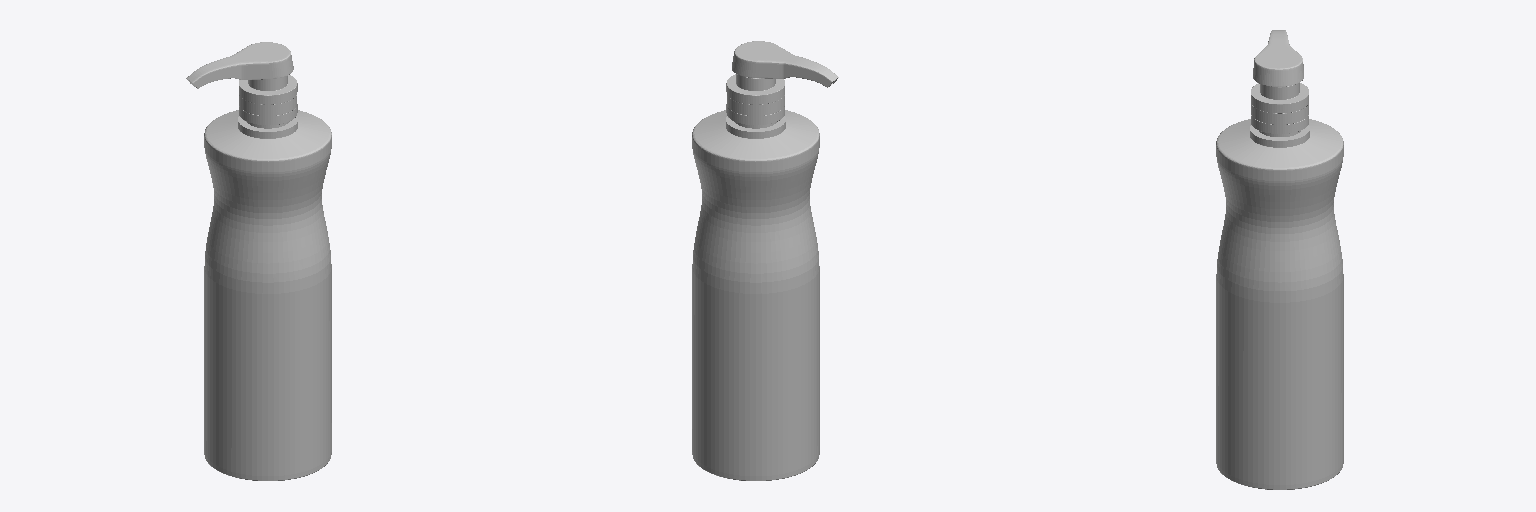
File: Blondes Conditioner Liter Label lb.obj
3 renders of one model, left to right at view 1: azimuth 30°, elevation 25°; view 2: azimuth 150°, elevation 25°; view 3: azimuth 270°, elevation 25°, orthographic.
Visible parts, largest first — view 1: Cylinder007, Cylinder008, Object008, Object009; view 2: Cylinder007, Cylinder008, Object008, Object009; view 3: Cylinder007, Cylinder008, Object008, Object009.
Boxes of the visible parts, x1,y1,x2,y2 form: Cylinder007: [204, 110, 331, 480]; Cylinder008: [186, 42, 293, 88]; Object008: [239, 75, 297, 124]; Object009: [239, 95, 296, 115]; Cylinder007: [692, 110, 819, 480]; Cylinder008: [732, 41, 838, 87]; Object008: [726, 74, 784, 124]; Object009: [727, 95, 784, 115]; Cylinder007: [1216, 119, 1343, 489]; Cylinder008: [1253, 30, 1303, 86]; Object008: [1251, 83, 1308, 133]; Object009: [1251, 104, 1308, 124].
Bounding box in the file's own units: 23.45 × 67.29 × 19.25.